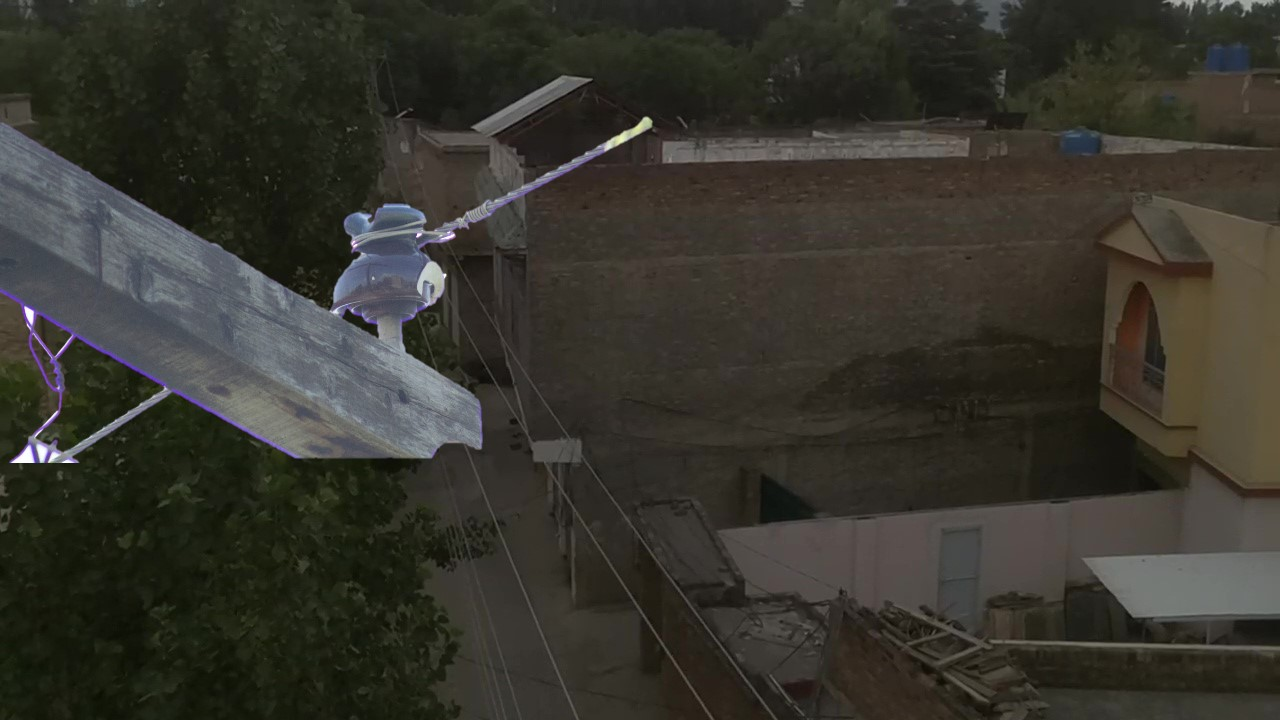defect_pin: (323, 195, 458, 326)
